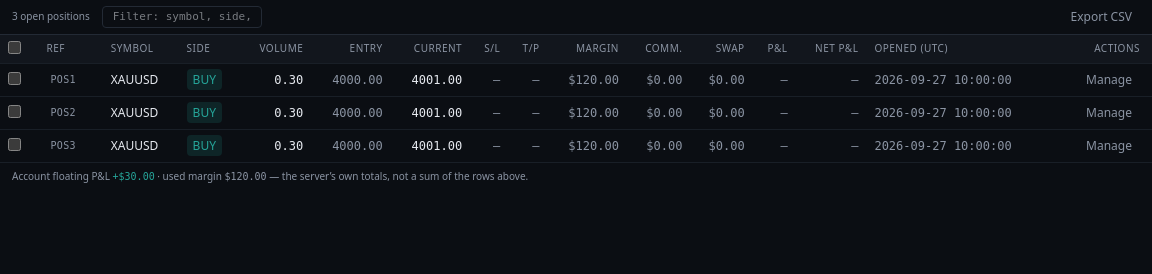
Test: closing a selection, rendered › sends exactly the ticked positions as one command, after asking
Click the checkbox named "Select POS1 XAUUSD": (14, 78) [8,72,21,84]
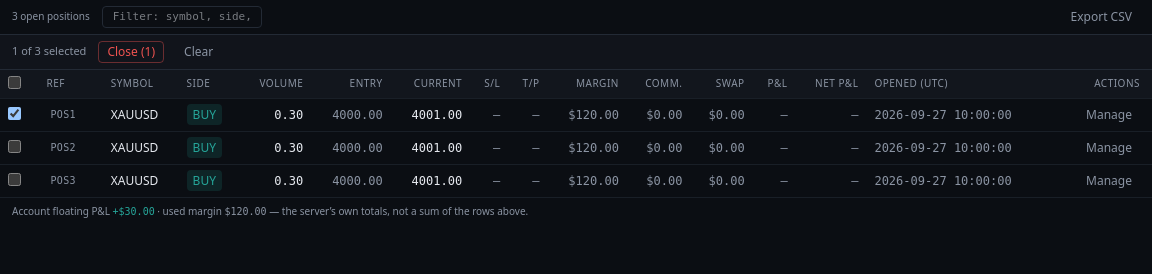
Click the checkbox named "Select POS3 XAUUSD": (14, 179) [8,172,21,186]
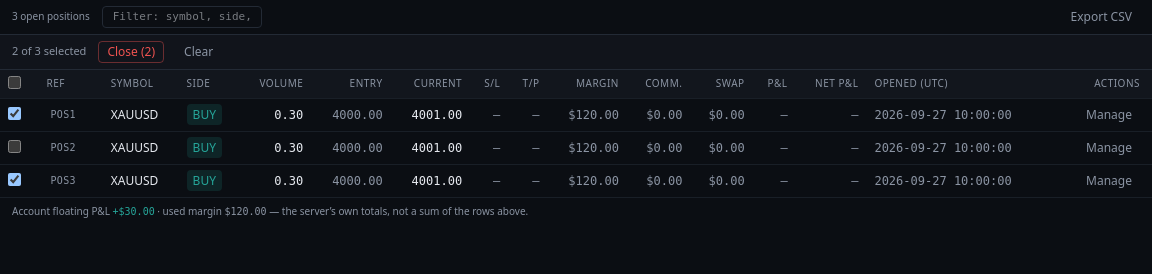
Expected: the element with test id "selection-bar" shows "2 of 3 selected", [0,35,1151,70]
Click the button "Close (2)": (131, 52) [98,41,164,63]
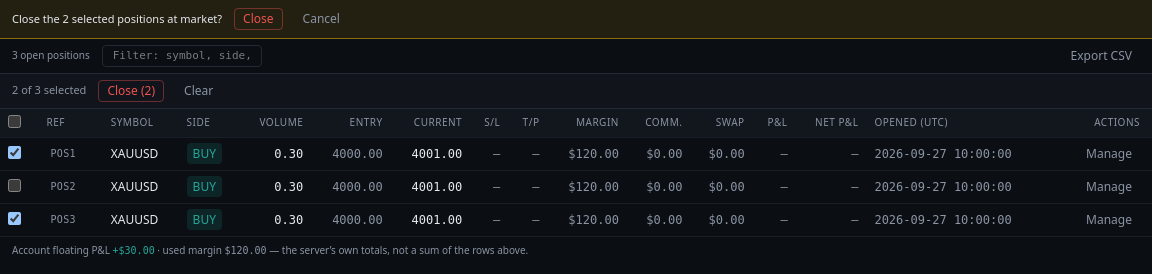
Expected: the text "Close the 2 selected positions at market?" is shown, [12,11,222,27]
Click the button "Close": (258, 19) [234,8,283,30]
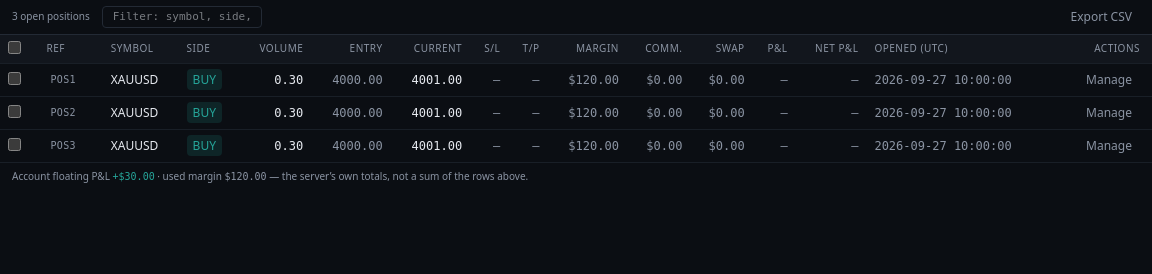
Expected: the element with test id "selection-bar" is gone
